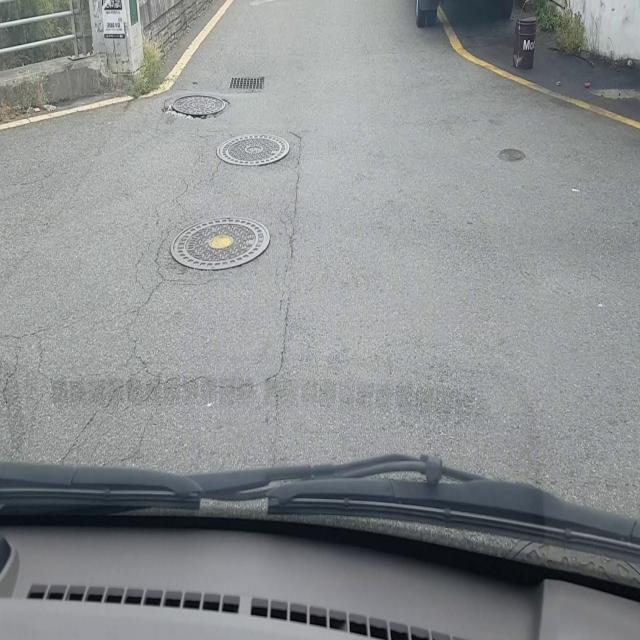Pothole: (162, 94, 230, 120)
